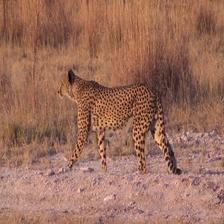Cheetah: (56, 70, 185, 178)
